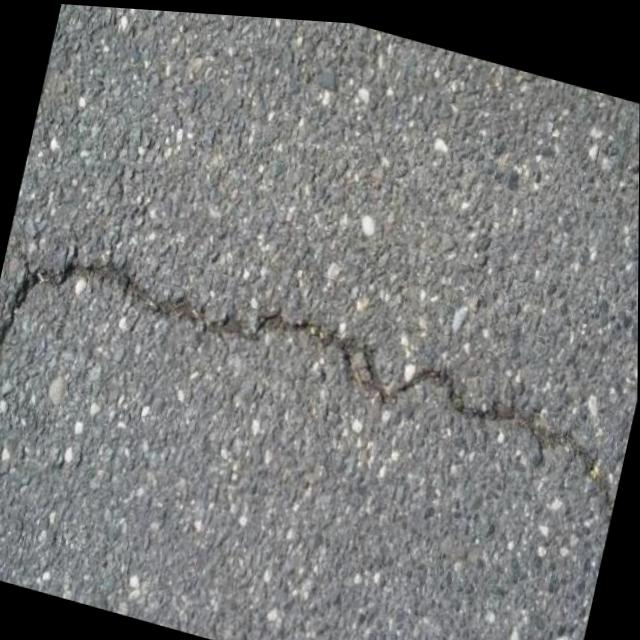Crack: (0, 212, 639, 600)
